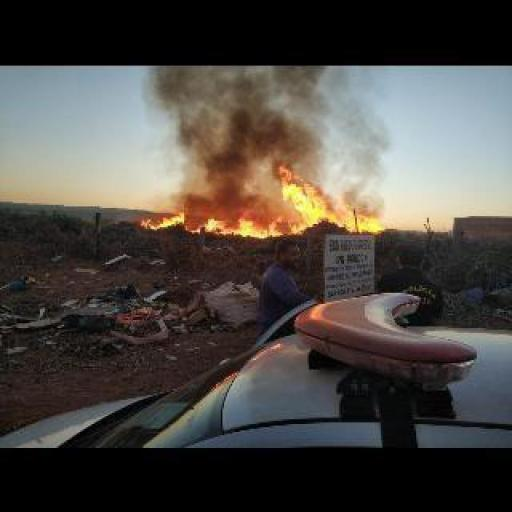smoke: (138, 62, 324, 210), (276, 171, 386, 237), (138, 211, 280, 237)
